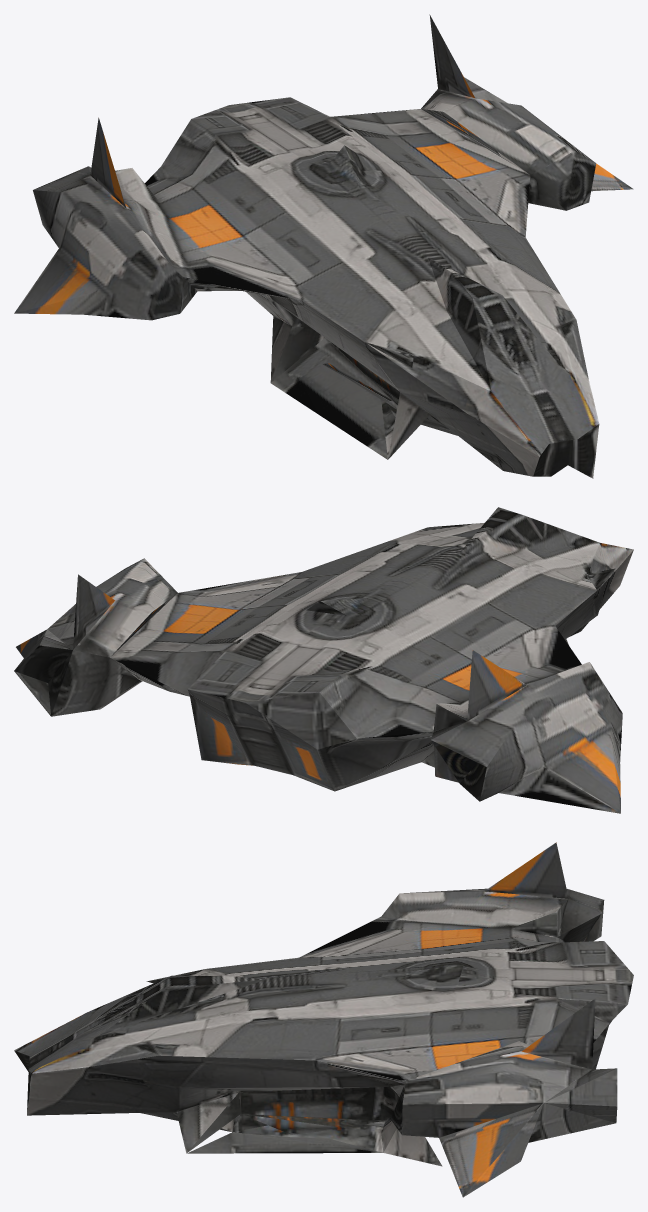
The model's file is bomber-far.glb.
3 renders of one model, top to bottom at view 1: azimuth 30°, elevation 25°; view 2: azimuth 150°, elevation 25°; view 3: azimuth 270°, elevation 25°, orthographic. The views are drawn at different scales.
Visible parts, largest first — view 1: Low; view 2: Low; view 3: Low.
Part boxes in pixels (left/top/right/bottom): Low: left=14, top=14, right=633, bottom=478; Low: left=14, top=507, right=633, bottom=813; Low: left=14, top=842, right=633, bottom=1197.
Size of the model in its own units: 1.62 by 0.5745 by 1.6.
Materials: 1 (1 with a texture image).
